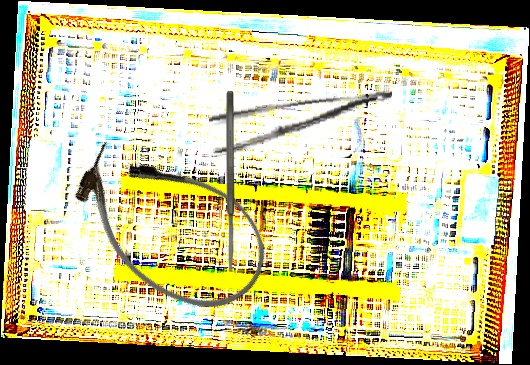Cannula: (50, 117, 290, 336)
Dressing Forceps: (207, 87, 398, 157)
Spatula Surgical: (225, 91, 235, 271)
